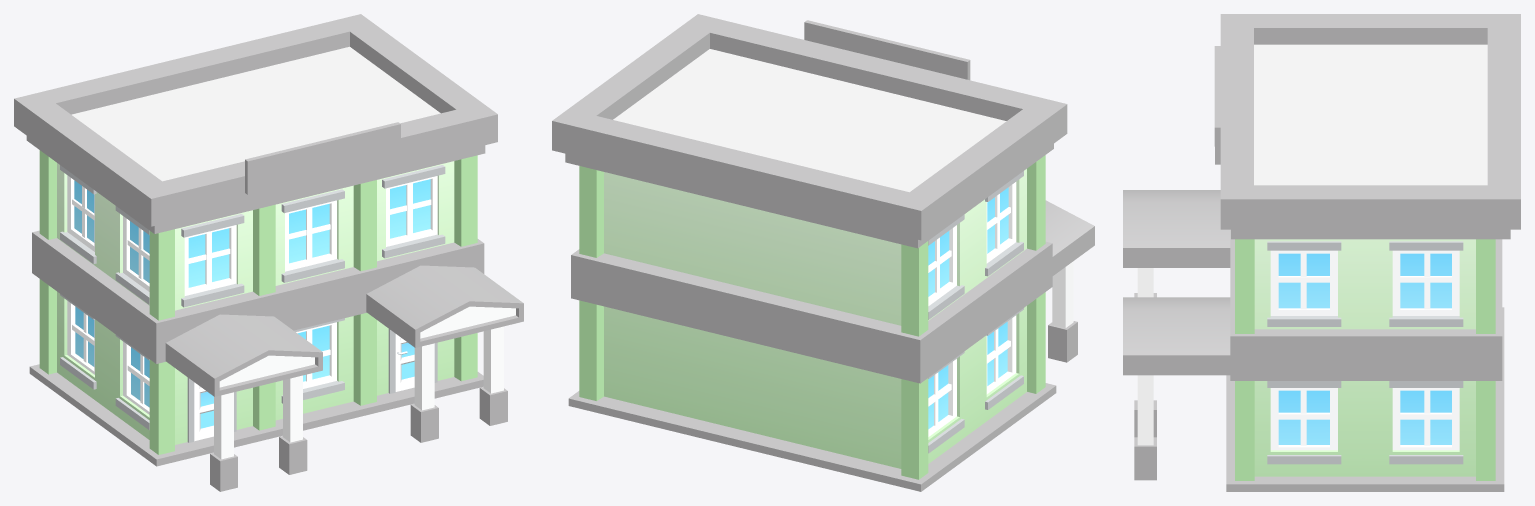
File: Building_Living_32.glb
3 renders of one model, left to right at view 1: azimuth 30°, elevation 25°; view 2: azimuth 150°, elevation 25°; view 3: azimuth 270°, elevation 25°, orthographic. The views are drawn at different scales.
Parts seen in each view (by area): view 1: Building_Living_32; view 2: Building_Living_32; view 3: Building_Living_32.
Part boxes in pixels (box(x1,y1,x2,y2)): Building_Living_32: box(14, 14, 523, 491); Building_Living_32: box(552, 14, 1094, 491); Building_Living_32: box(1123, 14, 1520, 491).
Bounding box in the file's own units: 10.33 × 8.2 × 9.38.
Materials: 1 (1 with a texture image).
